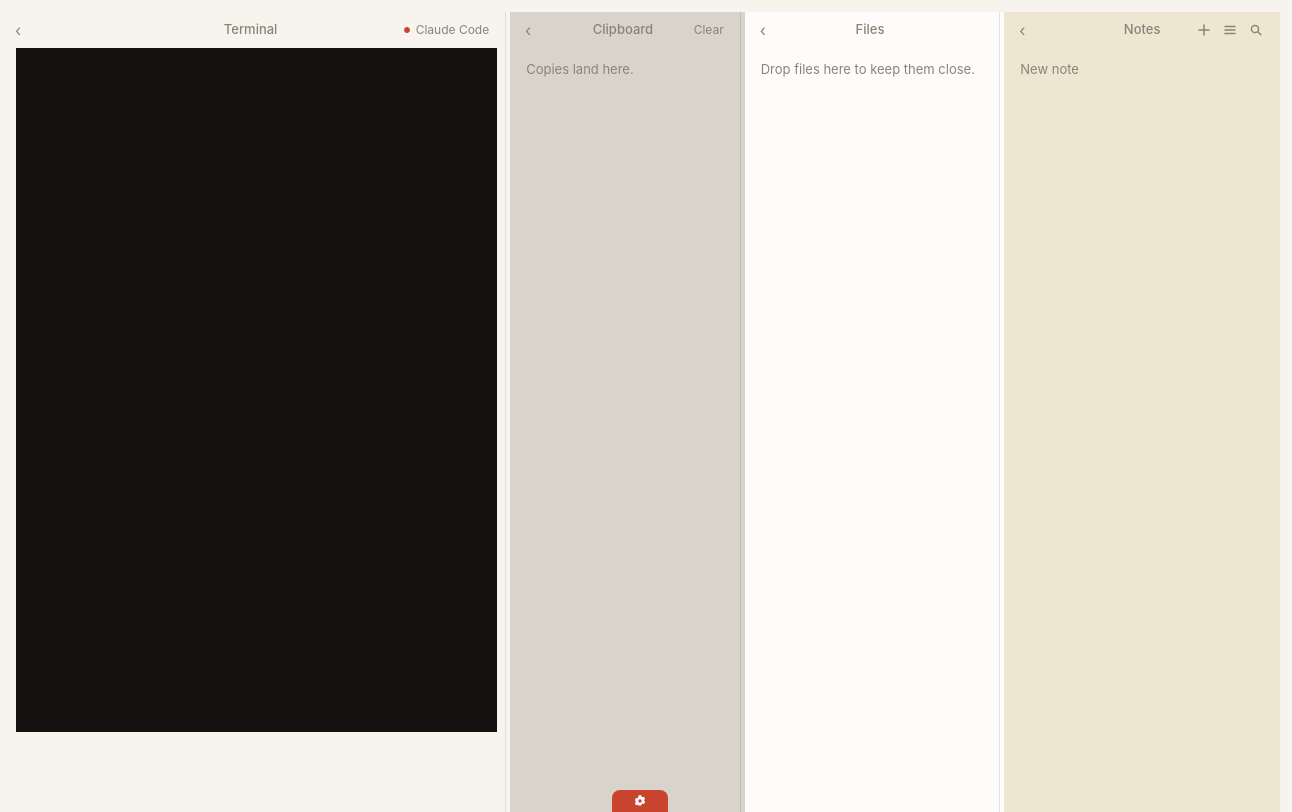
layout › starts fully open when storage cannot be read, and still collapses when it cannot be written
This screenshot has width=1292, height=812.
Click the button named "Collapse Clipboard" at {"x": 528, "y": 30}, box [518, 20, 538, 40]
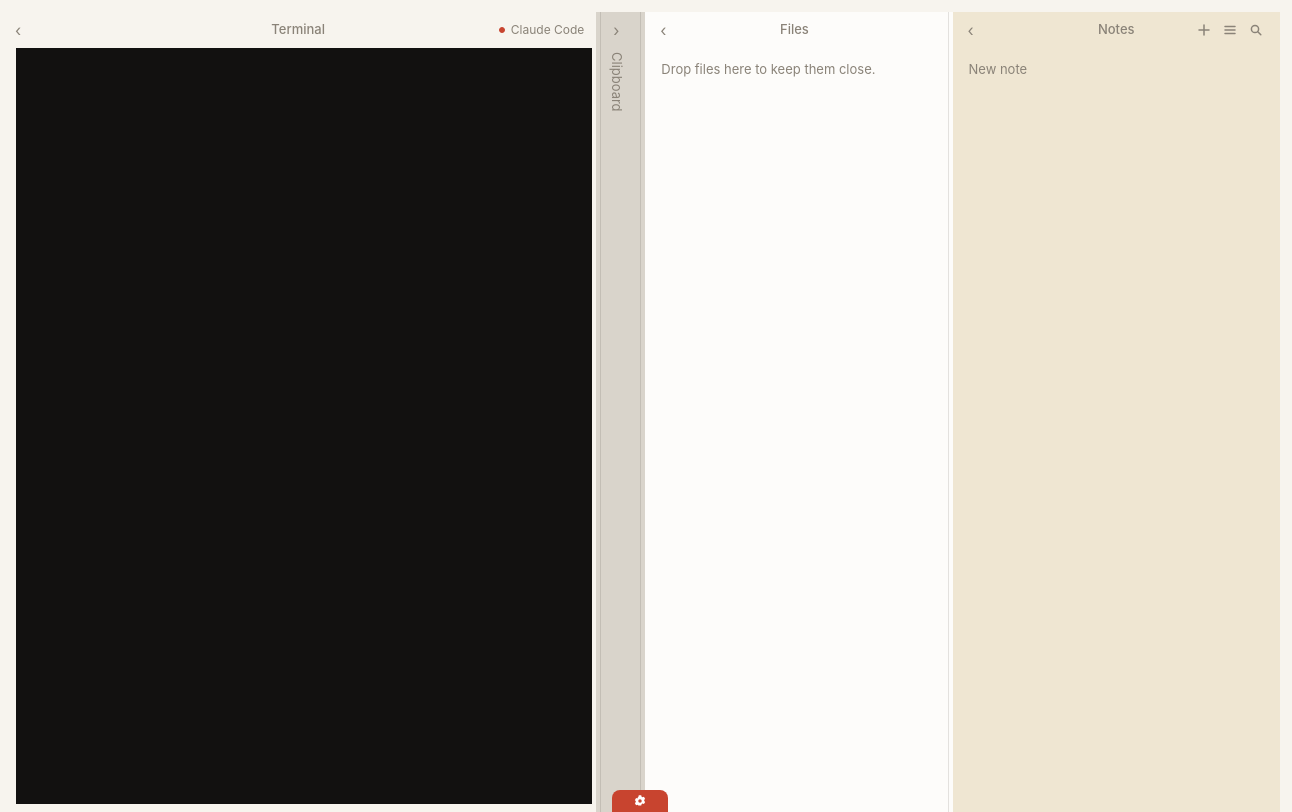
Expected: the button with aria-label "Expand Clipboard" is shown, [596, 12, 636, 811]
